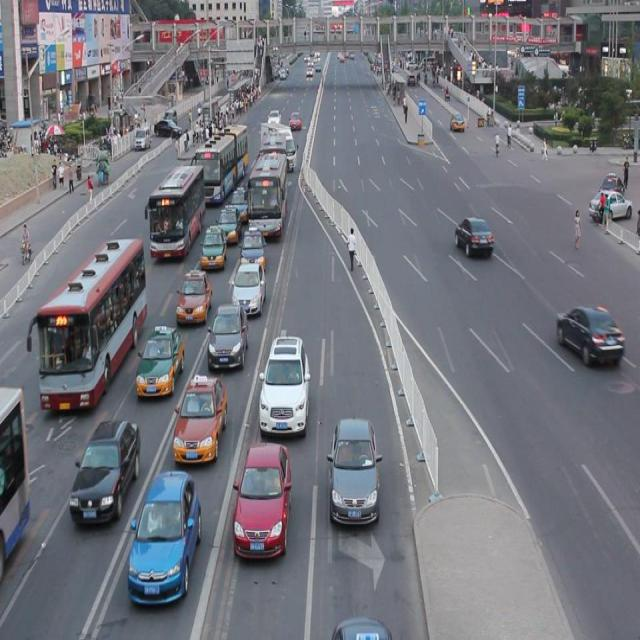bus: (260, 123, 298, 169)
car: (127, 470, 202, 604), (70, 418, 142, 522), (234, 440, 292, 556), (328, 418, 382, 522), (258, 333, 310, 434), (172, 374, 227, 464), (556, 303, 622, 363), (137, 326, 183, 396), (207, 303, 248, 369), (176, 269, 212, 322), (232, 262, 265, 312), (453, 215, 492, 256), (332, 616, 390, 640), (587, 189, 631, 220), (200, 223, 227, 266), (238, 227, 266, 267), (215, 205, 240, 242), (228, 187, 249, 222)
van: (27, 238, 147, 408), (144, 165, 202, 258), (1, 385, 31, 558), (195, 126, 247, 200), (246, 150, 287, 234), (260, 133, 286, 182)
